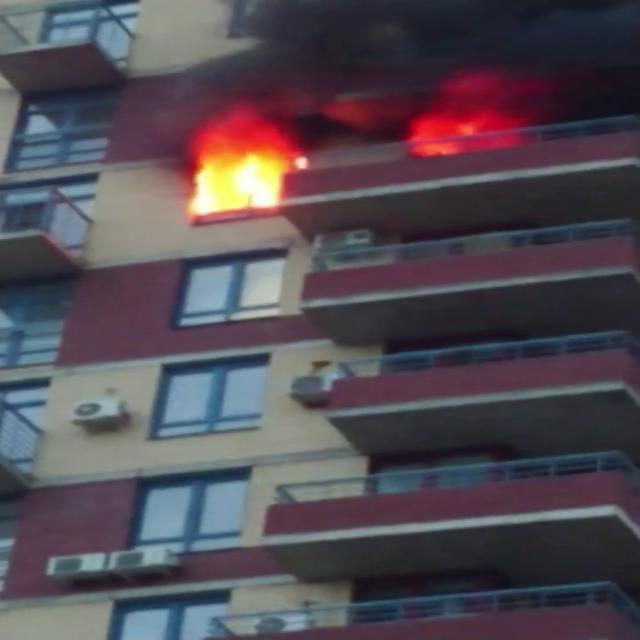Fire: (171, 114, 313, 218), (400, 76, 529, 160)
Smoke: (141, 0, 640, 135)
